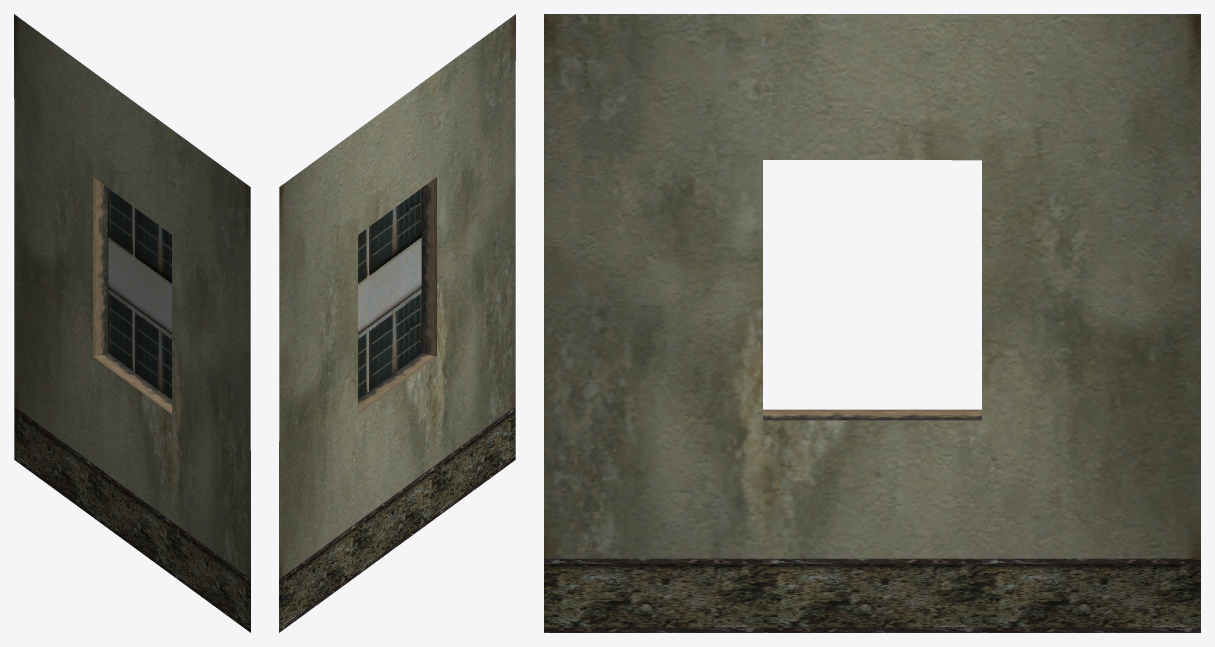
File: M10_Z01_17_NewBild02.glb
3 views of the same model, side by side, from view 1: azimuth 30°, elevation 25°; view 2: azimuth 150°, elevation 25°; view 3: azimuth 270°, elevation 25° (orthographic). The views are drawn at different scales.
Visible parts, largest first — view 1: M10_Z01_17_NEWBILD02; view 2: M10_Z01_17_NEWBILD02; view 3: M10_Z01_17_NEWBILD02.
Part boxes in pixels (bbox=[...]): M10_Z01_17_NEWBILD02: bbox=[14, 14, 250, 632]; M10_Z01_17_NEWBILD02: bbox=[279, 14, 515, 632]; M10_Z01_17_NEWBILD02: bbox=[544, 14, 1200, 632].
Size of the model in its own units: 0.303 by 8.32 by 8.
Materials: 4 (4 with a texture image).
